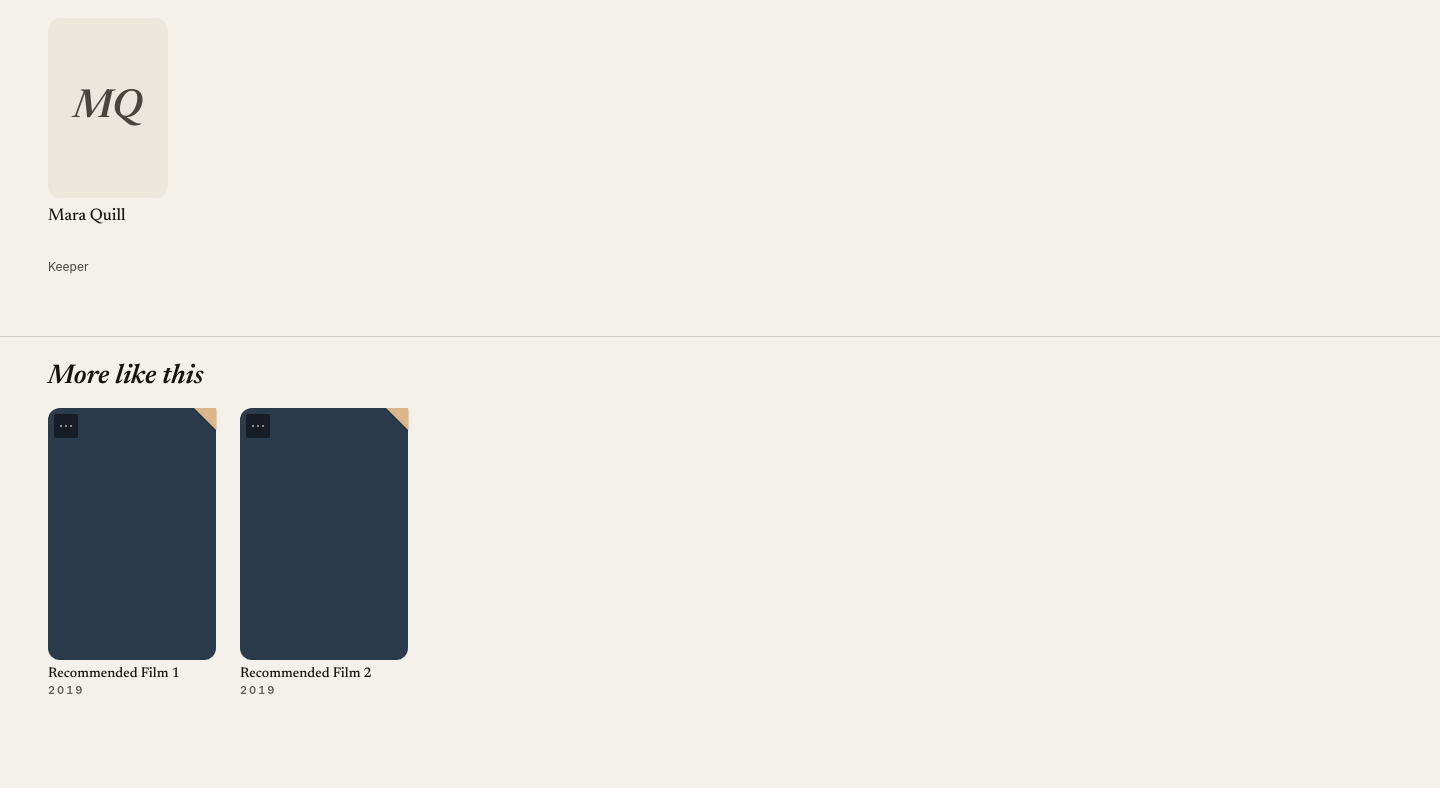
Test case: GalleryTitlePage: body and sections › puts a reason and a menu under each More like this poster when the server annotated them, and hides one on Not interested
(page scrolled)
Click the button named "More options for Recommended Film 1".
click(66, 426)  # box top-left (44, 404), bottom-right (88, 448)
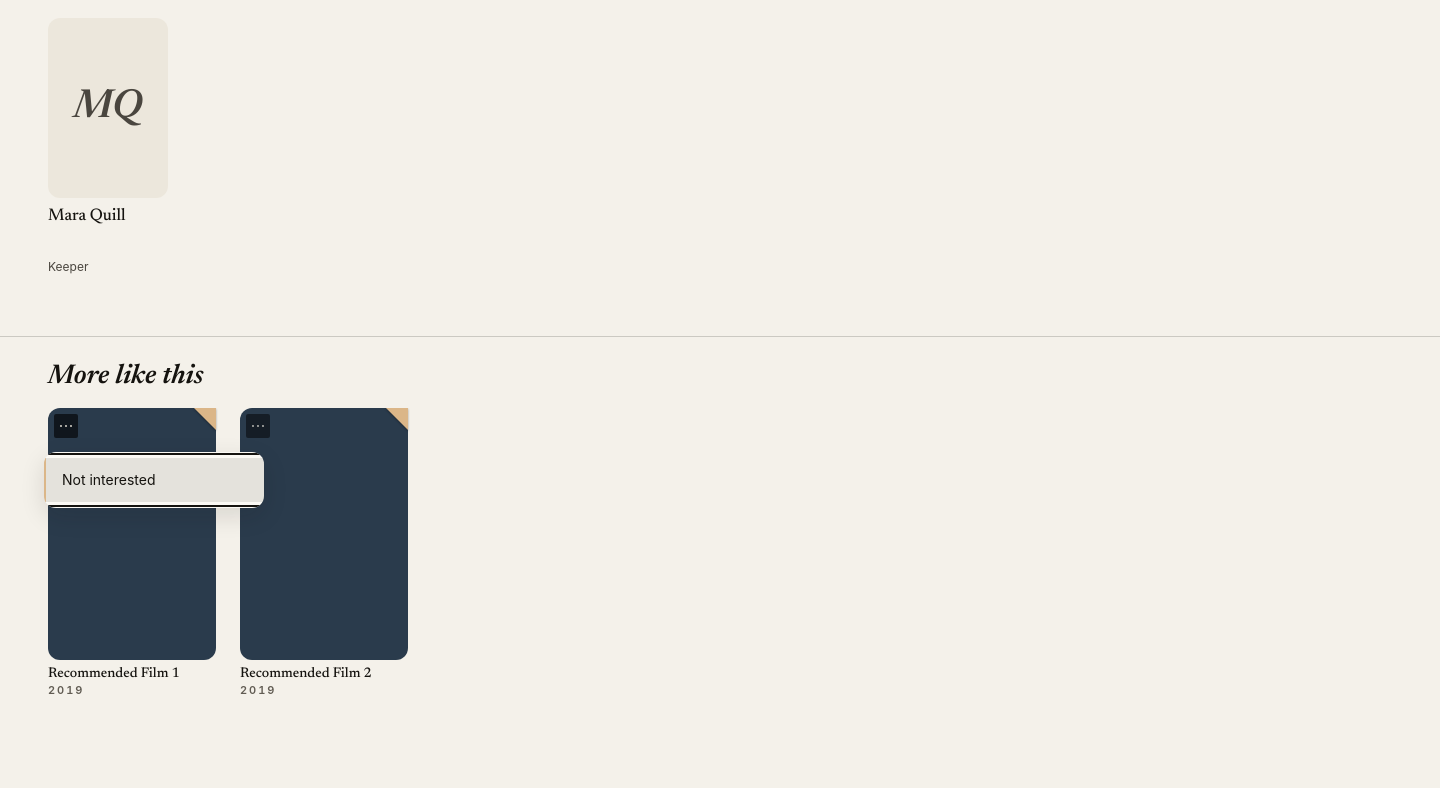
Click the menu item "Not interested".
click(154, 480)  # box top-left (44, 458), bottom-right (264, 502)
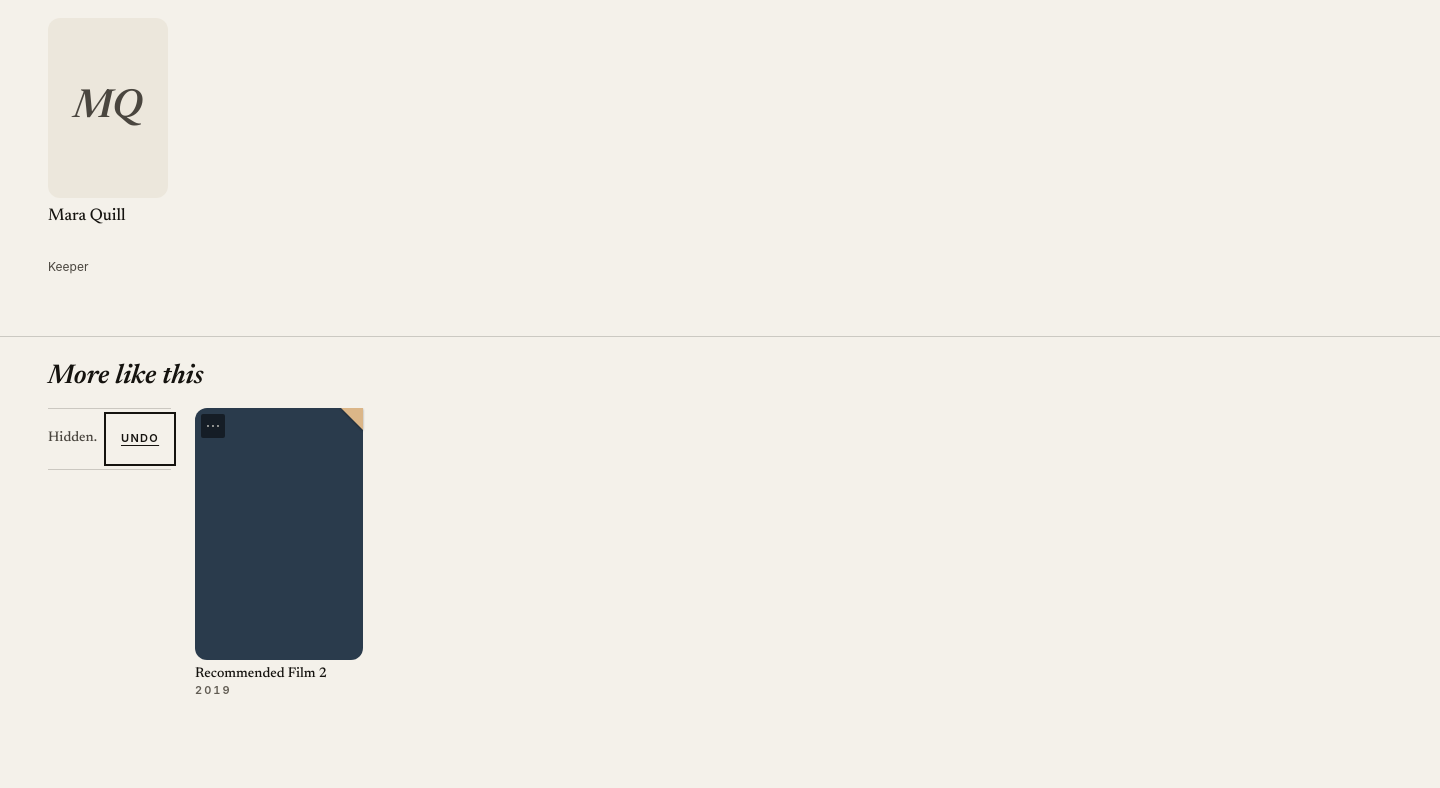
Expected: the text "Hidden." is shown, top-left (48, 430), bottom-right (97, 447)
